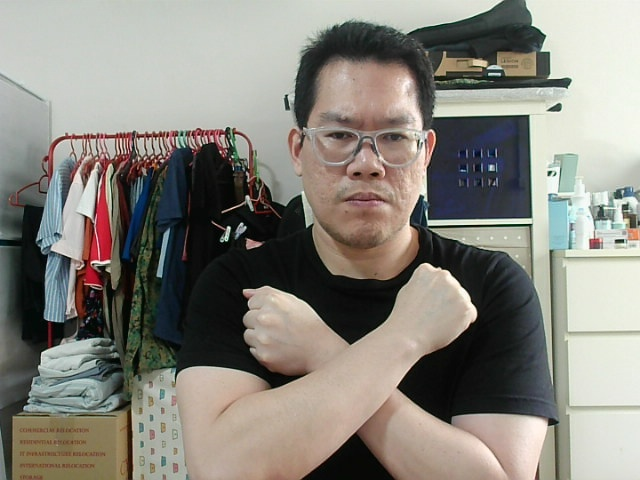love: (397, 270, 471, 341)
